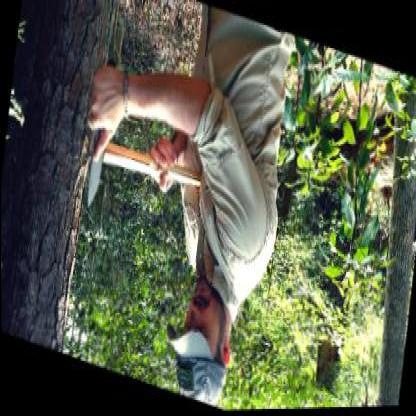knife: (72, 66, 119, 217)
